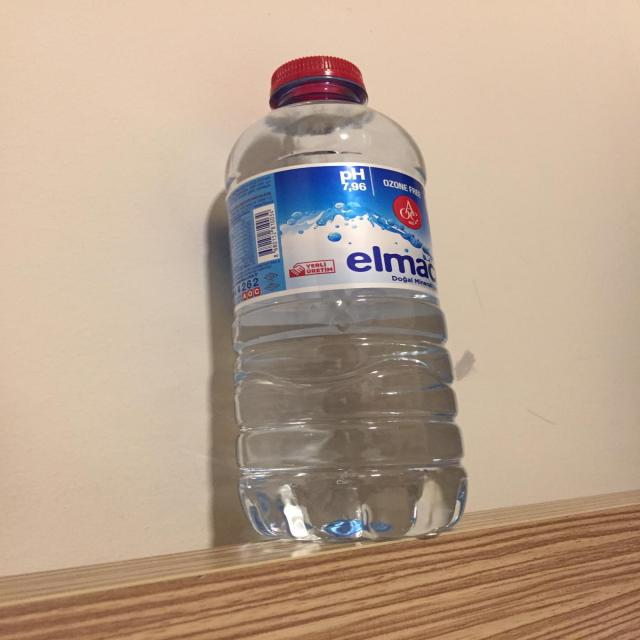bottle: (214, 52, 472, 534)
